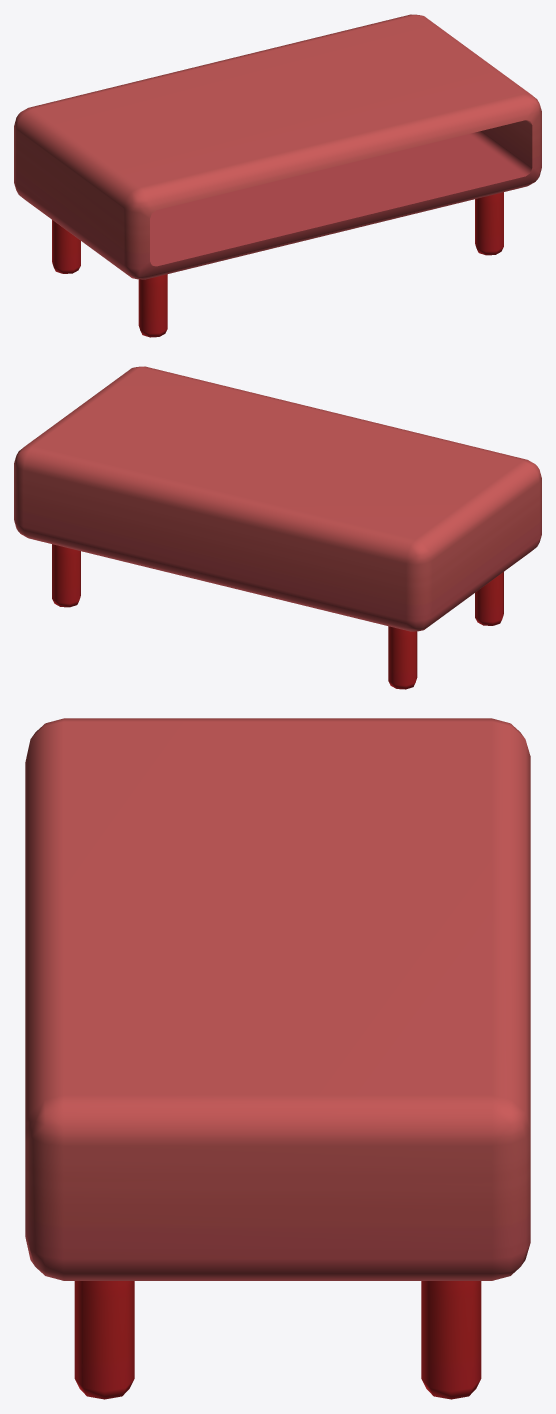
Rendered from TV_Stand_03.glb.
The picture shows the model from 3 angles, top to bottom: view 1: azimuth 30°, elevation 25°; view 2: azimuth 150°, elevation 25°; view 3: azimuth 270°, elevation 25°; orthographic projection. The views are drawn at different scales.
Parts seen in each view (by area): view 1: TV_Stand_03; view 2: TV_Stand_03; view 3: TV_Stand_03.
Boxes of the visible parts, box(x1,y1,x2,y2) form: TV_Stand_03: box(14, 14, 541, 337); TV_Stand_03: box(14, 366, 541, 689); TV_Stand_03: box(25, 718, 530, 1399).
Bounding box in the file's own units: 1.25 × 0.46 × 0.6572.
Materials: 1 (1 with a texture image).
